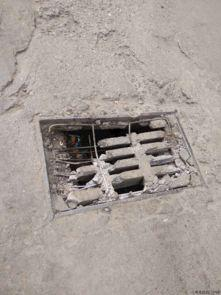wellcover: (32, 98, 207, 219)
